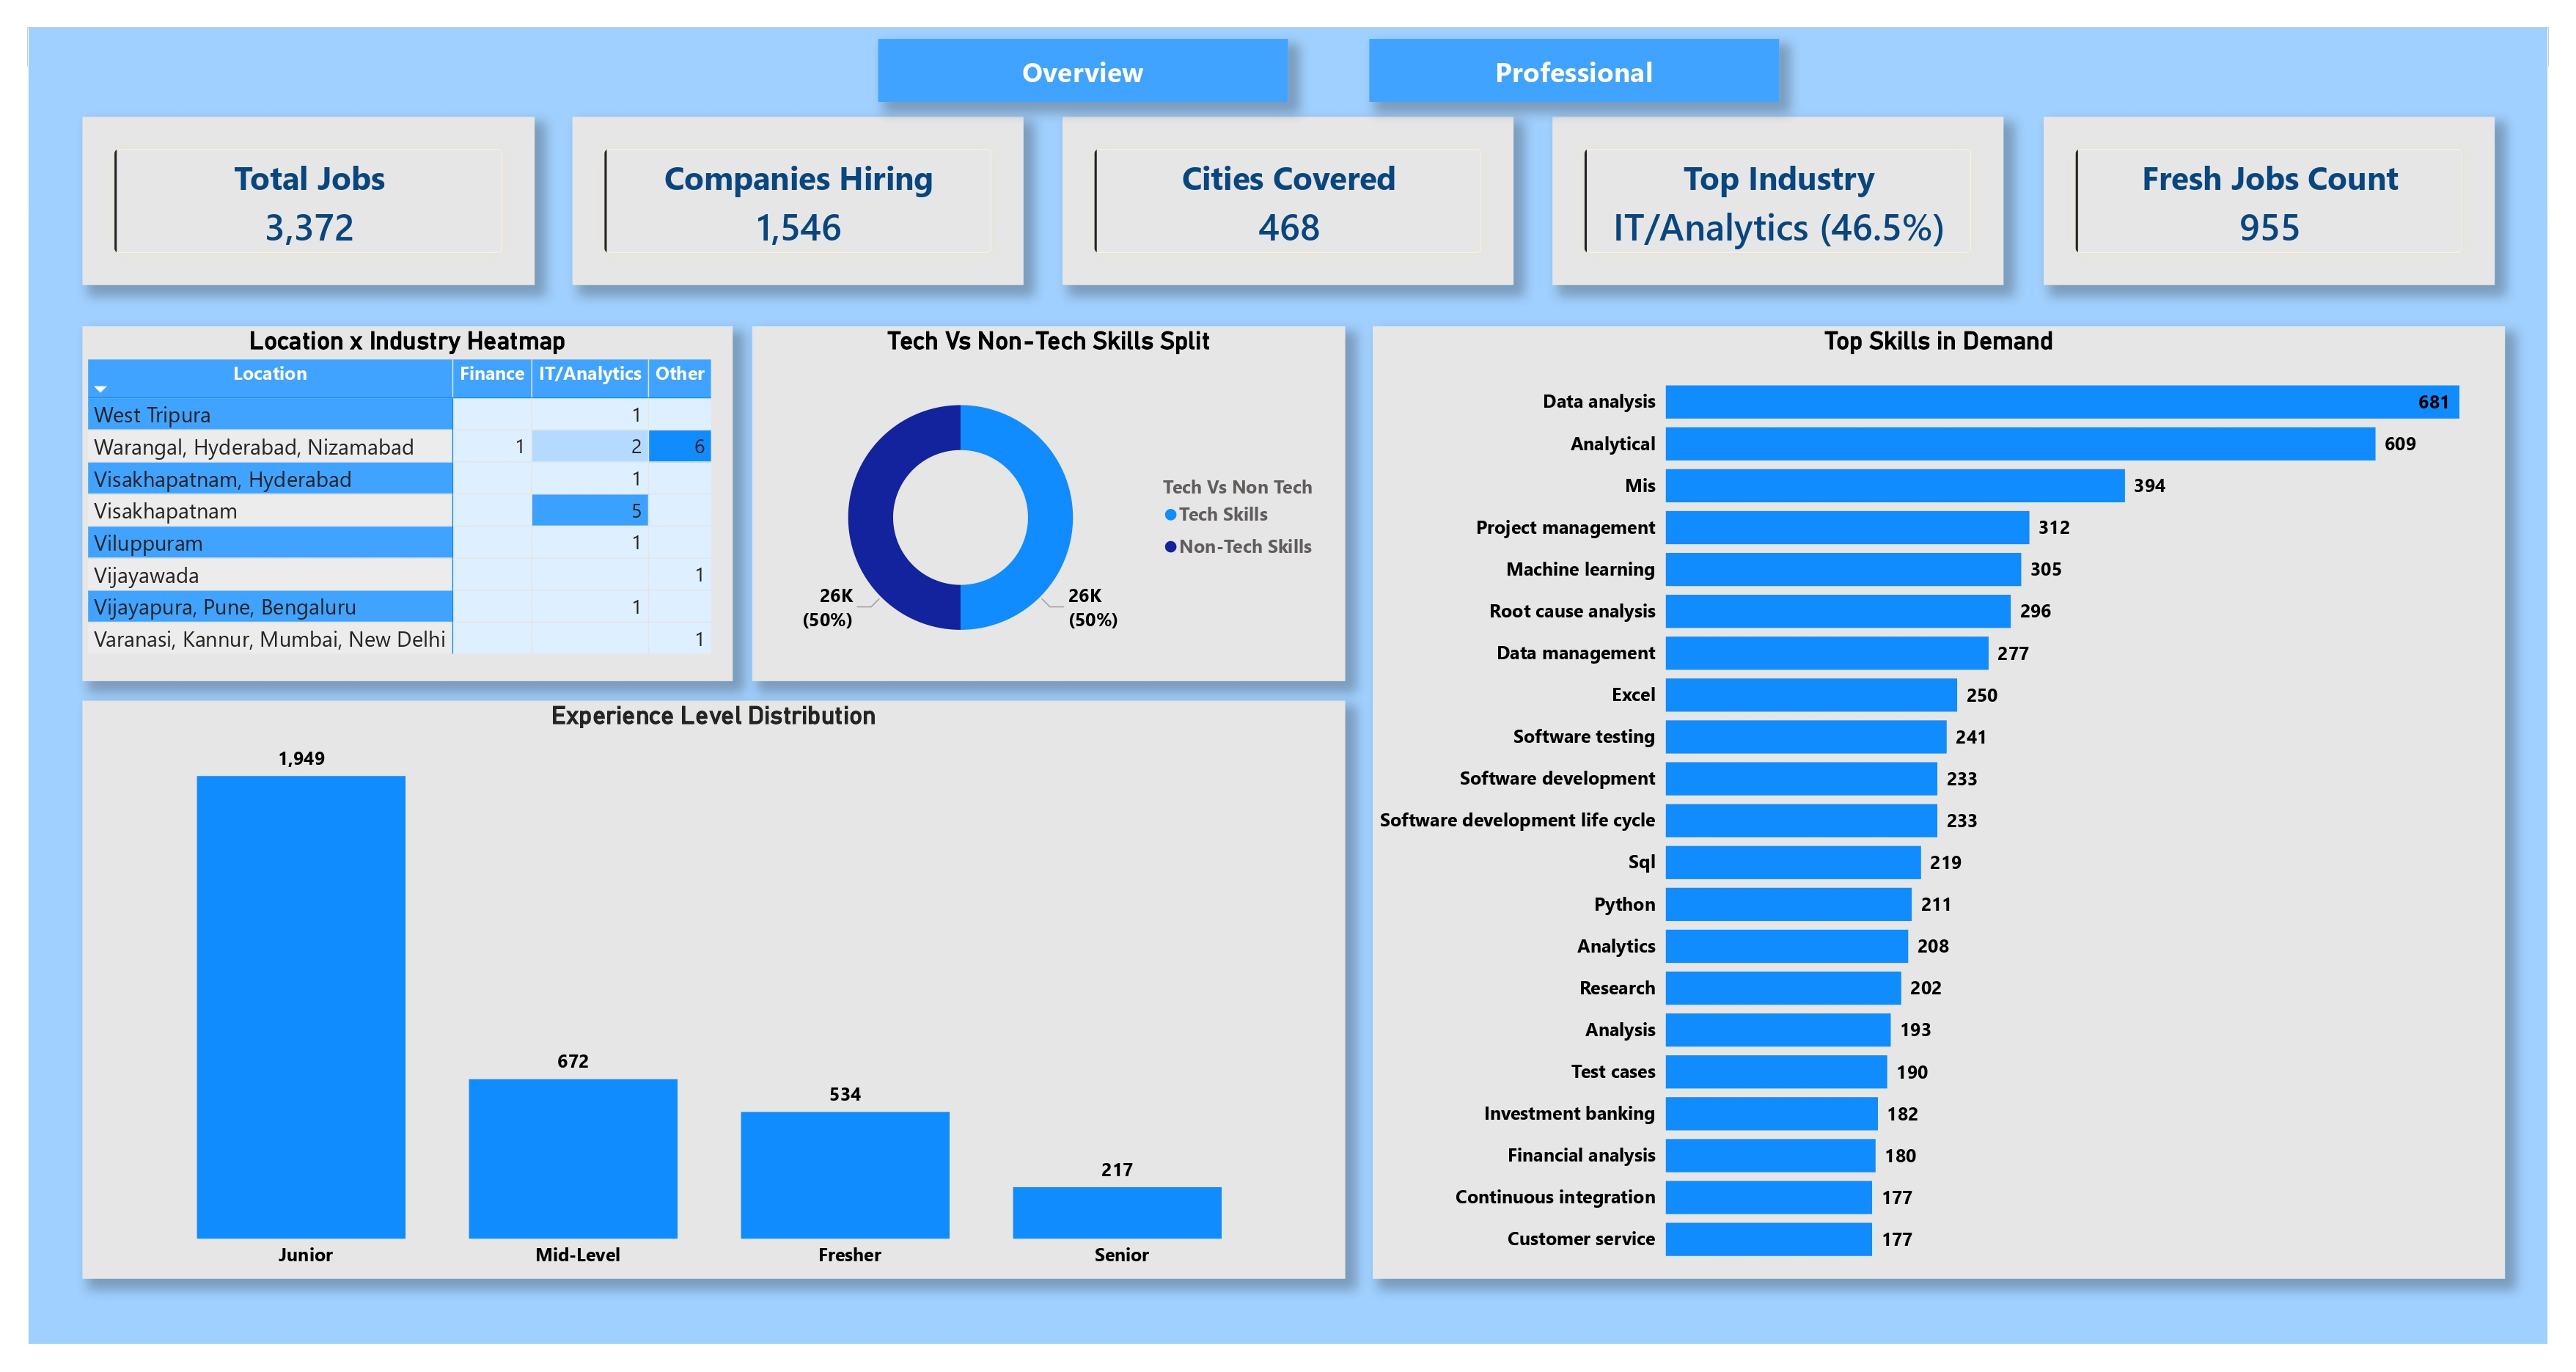

What the dashboard file says about the page in this screenshot:
{"tool":"powerbi","page":{"name":"Professional","canvas":[2200,1150],"ordinal":1},"visuals":[{"type":"cardVisual","fields":{"Data":["_Measures.Total Jobs"]},"box":[47.2,77.8,394.4,147.2],"z":0},{"type":"cardVisual","fields":{"Data":["_Measures.Unique Companies"]},"box":[475,77.8,394.4,147.2],"z":1000},{"type":"cardVisual","fields":{"Data":["_Measures.Unique Locations"]},"box":[902.8,77.8,394.4,147.2],"z":2000},{"type":"cardVisual","fields":{"Data":["_Measures.Top Industry Label"]},"box":[1330.6,77.8,394.4,147.2],"z":3000},{"type":"cardVisual","fields":{"Data":["_Measures.Fresh Jobs Count"]},"box":[1759.7,77.8,394.4,147.2],"z":4000},{"type":"columnChart","title":"Experience Level Distribution","fields":{"Category":["Dim_ExperienceBucket.Exp Bucket"],"Y":["_Measures.Job Count"]},"box":[47.2,587.5,1102.8,505.6],"z":5000},{"type":"barChart","title":"Top Skills in Demand","fields":{"Y":["_Measures.Skill Count"],"Category":["SkillsBridge.Skill Name"]},"box":[1173.6,261.1,988.9,831.9],"z":6000},{"type":"donutChart","title":"Tech Vs Non-Tech Skills Split","fields":{"Y":["_Measures.Tech Skills Count","_Measures.Non-Tech Skills Count"]},"box":[631.9,261.1,518.1,309.7],"z":7000},{"type":"pivotTable","title":"Location x Industry Heatmap","fields":{"Columns":["Table.Industry"],"Values":["_Measures.Job Count Heatmap"],"Rows":["Table.Location"]},"box":[47.2,261.1,568.1,309.7],"z":8000},{"type":"actionButton","box":[741.9,9.7,358.1,54.8],"z":9000},{"type":"actionButton","box":[1171,9.7,358.1,54.8],"z":10000}]}

Visuals, with their boxes on the page's 2200x1150 design canvas (x1, y1, x2, y2). These are canvas units, not pixel positions in the 2576x1372 screenshot, which may show the page scaled, cropped or inside an application window:
cardVisual - _Measures.Total Jobs: (x1=47, y1=78, x2=442, y2=225)
cardVisual - _Measures.Unique Companies: (x1=475, y1=78, x2=869, y2=225)
cardVisual - _Measures.Unique Locations: (x1=903, y1=78, x2=1297, y2=225)
cardVisual - _Measures.Top Industry Label: (x1=1331, y1=78, x2=1725, y2=225)
cardVisual - _Measures.Fresh Jobs Count: (x1=1760, y1=78, x2=2154, y2=225)
"Experience Level Distribution" columnChart: (x1=47, y1=588, x2=1150, y2=1093)
"Top Skills in Demand" barChart: (x1=1174, y1=261, x2=2162, y2=1093)
"Tech Vs Non-Tech Skills Split" donutChart: (x1=632, y1=261, x2=1150, y2=571)
"Location x Industry Heatmap" pivotTable: (x1=47, y1=261, x2=615, y2=571)
actionButton: (x1=742, y1=10, x2=1100, y2=64)
actionButton: (x1=1171, y1=10, x2=1529, y2=64)
